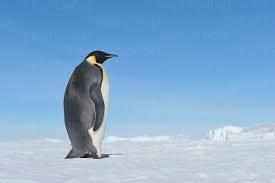emporer: (50, 44, 133, 165)
